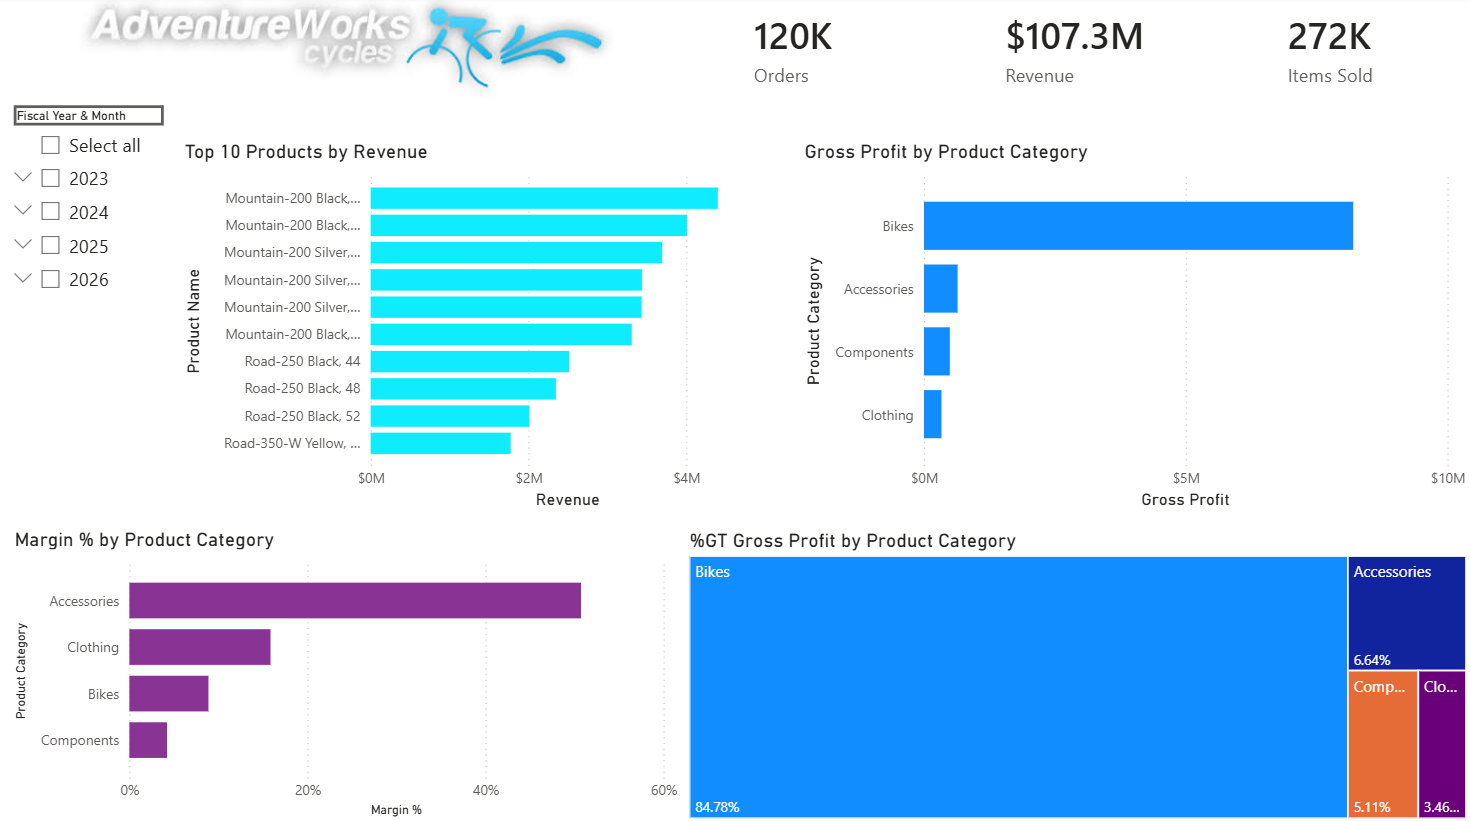

Layout of this report page (visuals, bound fields, positions):
{"tool":"powerbi","page":{"name":"Product Profitability (Top 10)","canvas":[1280,720],"ordinal":2},"visuals":[{"type":"image","box":[8.9,0,586.8,90.4],"z":0},{"type":"cardVisual","fields":{"Data":["Order Items.Orders"]},"box":[629.8,0,133.4,90.4],"z":1000},{"type":"cardVisual","fields":{"Data":["Order Items.Revenue"]},"box":[848.3,0,182.1,90.5],"z":2000},{"type":"cardVisual","fields":{"Data":["Order Items.Items Sold"]},"box":[1093.7,0,133.1,90.6],"z":3000},{"type":"clusteredBarChart","title":"Top 10 Products by Revenue","fields":{"Category":["Products.Product Name"],"Y":["Order Items.Revenue"]},"box":[156.7,125.4,526.5,326],"z":4000},{"type":"clusteredBarChart","fields":{"Category":["Products.Product Category Hierarchy.Product Category","Products.Product Category Hierarchy.Product Subcategory","Products.Product Category Hierarchy.Product Name"],"Y":["Order Items.Gross Profit"]},"box":[695.2,125.3,584.8,326.1],"z":5000},{"type":"treemap","fields":{"Group":["Products.Product Category Hierarchy.Product Category","Products.Product Category Hierarchy.Product Subcategory"],"Values":["Order Items.Gross Profit"]},"box":[595.5,462.3,684.8,257],"z":6000},{"type":"clusteredBarChart","fields":{"Y":["Order Items.Margin %"],"Category":["Products.Product Category Hierarchy.Product Category","Products.Product Category Hierarchy.Product Subcategory","Products.Product Category Hierarchy.Product Name"]},"box":[9,462,586,257],"z":7000},{"type":"slicer","fields":{"Values":["Calendar.Fiscal Year Hierarchy.Fiscal Year","Calendar.Fiscal Year Hierarchy.Fiscal Month"]},"box":[0,90.3,156.3,316.6],"z":8000}]}

Visuals, with their boxes in screenshot pixels (x1, y1, x2, y2), scaled from the page's 1280x720 canvas onto the 1470x821 screenshot:
image: [left=10, top=0, right=684, bottom=103]
cardVisual - Order Items.Orders: [left=723, top=0, right=876, bottom=103]
cardVisual - Order Items.Revenue: [left=974, top=0, right=1183, bottom=103]
cardVisual - Order Items.Items Sold: [left=1256, top=0, right=1409, bottom=103]
"Top 10 Products by Revenue" clusteredBarChart: [left=180, top=143, right=785, bottom=515]
clusteredBarChart - Products.Product Category Hierarchy.Product Category x Products.Product Category Hierarchy.Product Subcategory: [left=798, top=143, right=1469, bottom=515]
treemap - Products.Product Category Hierarchy.Product Category x Products.Product Category Hierarchy.Product Subcategory: [left=684, top=527, right=1469, bottom=820]
clusteredBarChart - Order Items.Margin % x Products.Product Category Hierarchy.Product Category: [left=10, top=527, right=683, bottom=820]
slicer - Calendar.Fiscal Year Hierarchy.Fiscal Year x Calendar.Fiscal Year Hierarchy.Fiscal Month: [left=0, top=103, right=180, bottom=464]
